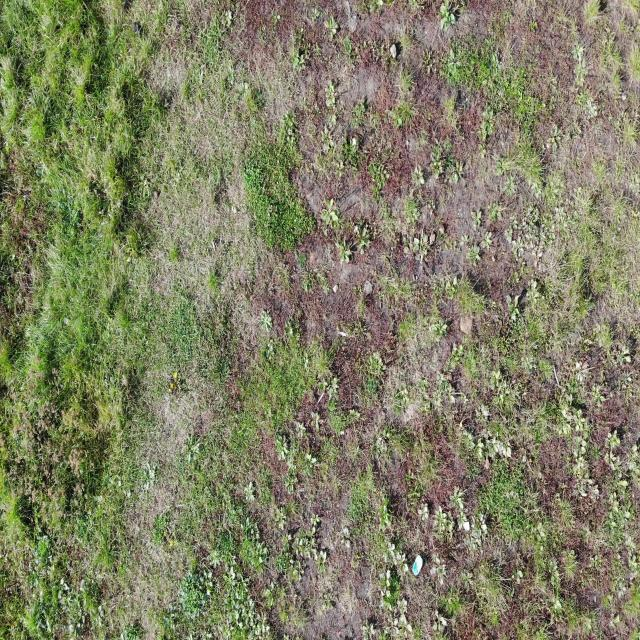rubbish: (410, 555, 425, 580)
